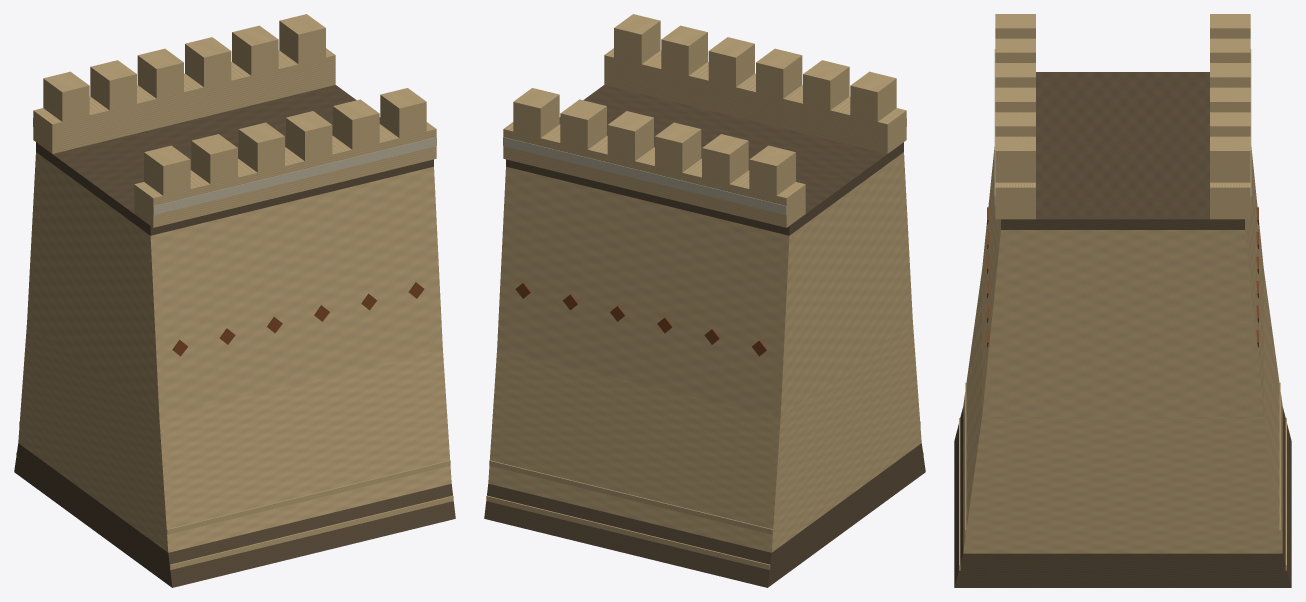
Rendered from Berber_Wall_Age4_straight_6m.fbx.
The picture shows the model from 3 angles, left to right: view 1: azimuth 30°, elevation 25°; view 2: azimuth 150°, elevation 25°; view 3: azimuth 270°, elevation 25°; orthographic projection. The views are drawn at different scales.
Visible parts, largest first — view 1: straight_6m_rammed_curtain_upper, straight_6m_rammed_curtain_lower, straight_6m_battered_stone_foot, straight_6m_walk_deck, straight_6m_parapet.001, straight_6m_parapet, straight_6m_owner_painted_band, straight_6m_merlon.002, straight_6m_merlon.006, straight_6m_merlon.004, straight_6m_merlon.005, straight_6m_merlon.003 (+10 smaller); view 2: straight_6m_rammed_curtain_upper, straight_6m_rammed_curtain_lower, straight_6m_battered_stone_foot, straight_6m_walk_deck, straight_6m_parapet, straight_6m_parapet.001, straight_6m_owner_painted_band.001, straight_6m_merlon, straight_6m_merlon.008, straight_6m_merlon.005, straight_6m_merlon.004, straight_6m_merlon.007 (+9 smaller); view 3: straight_6m_rammed_curtain_upper, straight_6m_rammed_curtain_lower, straight_6m_walk_deck, straight_6m_battered_stone_foot, straight_6m_merlon.011, straight_6m_merlon.005, straight_6m_parapet, straight_6m_parapet.001, straight_6m_merlon.009, straight_6m_merlon.003, straight_6m_merlon, straight_6m_merlon.002 (+6 smaller).
Part boxes in pixels (box(x1,y1,x2,y2)): straight_6m_rammed_curtain_upper: box(27, 152, 442, 417); straight_6m_rammed_curtain_lower: box(18, 321, 451, 552); straight_6m_battered_stone_foot: box(14, 443, 455, 587); straight_6m_walk_deck: box(36, 85, 433, 235); straight_6m_parapet.001: box(33, 48, 335, 153); straight_6m_parapet: box(134, 122, 436, 227); straight_6m_owner_painted_band: box(153, 137, 436, 215); straight_6m_merlon.002: box(238, 122, 284, 172); straight_6m_merlon.006: box(43, 71, 89, 121); straight_6m_merlon.004: box(333, 99, 379, 149); straight_6m_merlon.005: box(380, 88, 426, 137); straight_6m_merlon.003: box(286, 111, 332, 160); straight_6m_rammed_curtain_upper: box(497, 152, 912, 417); straight_6m_rammed_curtain_lower: box(488, 321, 921, 552); straight_6m_battered_stone_foot: box(484, 443, 925, 587); straight_6m_walk_deck: box(506, 85, 903, 235); straight_6m_parapet: box(604, 48, 906, 153); straight_6m_parapet.001: box(503, 122, 805, 227); straight_6m_owner_painted_band.001: box(503, 137, 786, 215); straight_6m_merlon: box(850, 71, 896, 121); straight_6m_merlon.008: box(655, 122, 701, 172); straight_6m_merlon.005: box(614, 14, 660, 64); straight_6m_merlon.004: box(661, 25, 707, 75); straight_6m_merlon.007: box(702, 134, 748, 184); straight_6m_rammed_curtain_upper: box(982, 147, 1263, 416); straight_6m_rammed_curtain_lower: box(963, 271, 1282, 553); straight_6m_walk_deck: box(1001, 72, 1244, 229); straight_6m_battered_stone_foot: box(954, 407, 1291, 587); straight_6m_merlon.011: box(1210, 136, 1250, 182); straight_6m_merlon.005: box(995, 136, 1035, 182); straight_6m_parapet: box(995, 182, 1035, 219); straight_6m_parapet.001: box(1210, 182, 1250, 219); straight_6m_merlon.009: box(1210, 87, 1250, 112); straight_6m_merlon.003: box(995, 87, 1035, 112); straight_6m_merlon: box(995, 14, 1035, 38); straight_6m_merlon.002: box(995, 63, 1035, 87).
Size of the model in its own units: 600 by 820 by 580.
Materials: 4 (4 with a texture image).
